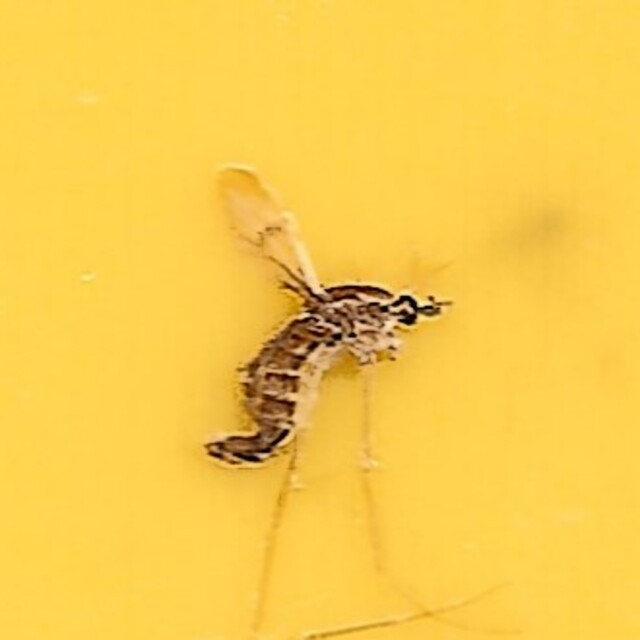Nematocera: (194, 167, 446, 473)
